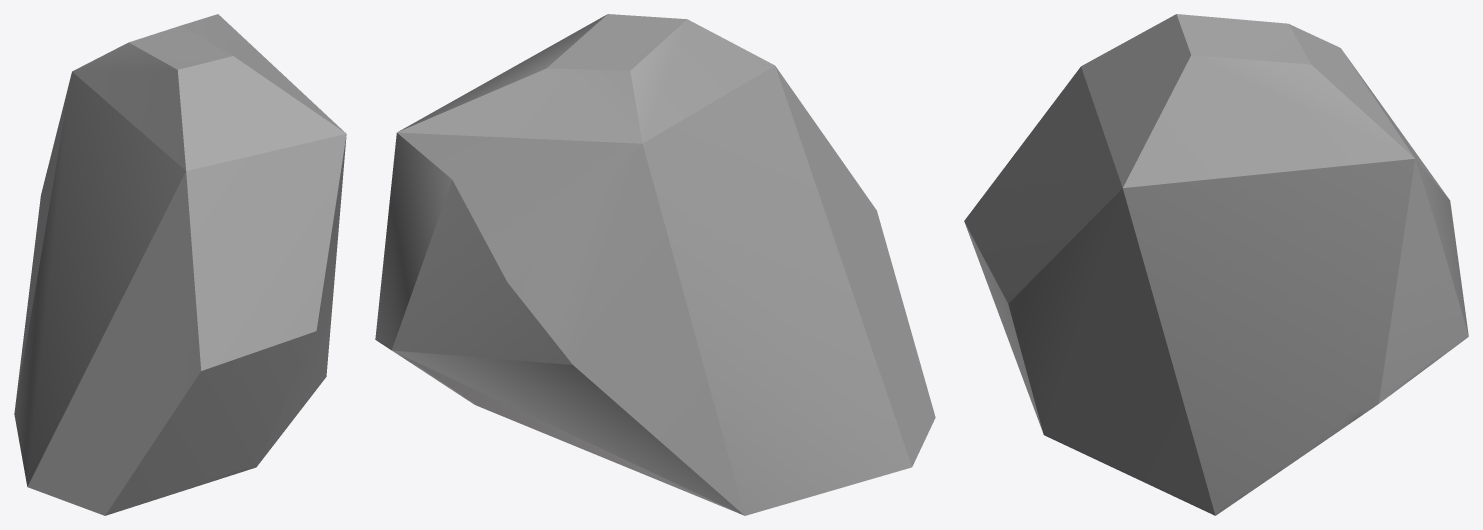
File: Rock2.fbx
The picture shows the model from 3 angles, left to right: view 1: azimuth 30°, elevation 25°; view 2: azimuth 150°, elevation 25°; view 3: azimuth 270°, elevation 25°; orthographic projection. The views are drawn at different scales.
Visible parts, largest first — view 1: pCube1; view 2: pCube1; view 3: pCube1.
Part boxes in pixels (x1,y1,x2,y2): pCube1: (14,14,346,515); pCube1: (375,14,935,515); pCube1: (964,14,1468,515).
Bounding box in the file's own units: 2.83 × 2.77 × 3.09.
Materials: 1 (1 with a texture image).
